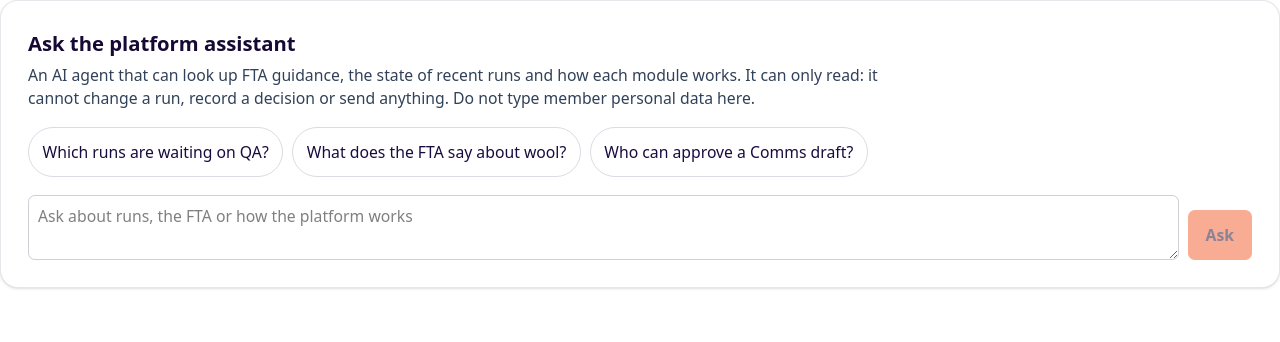
it: PlatformAssistant › says plainly when the assistant is not configured
Type "Hello" into the text box named "Your question".
click(603, 227); type("Hello")  # box [28,194,1178,260]
Then press Enter
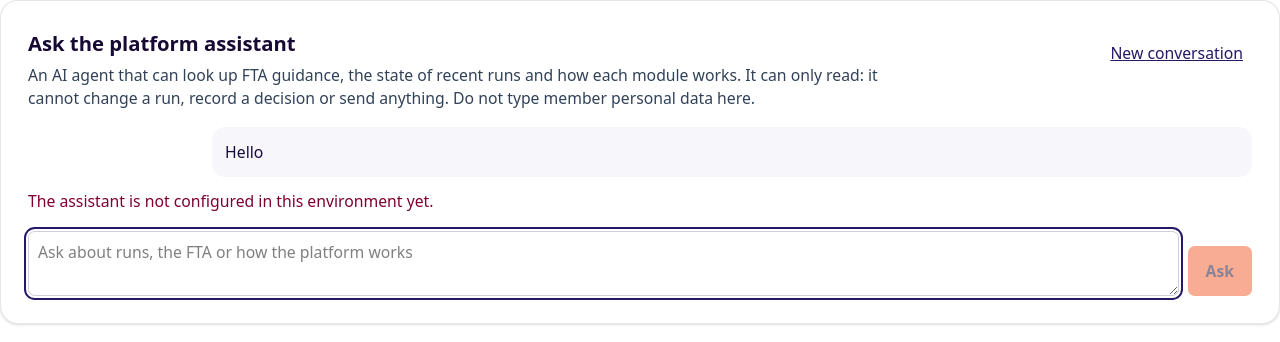
Result: the message shows "not configured in this environment" at [28,190,434,212]
